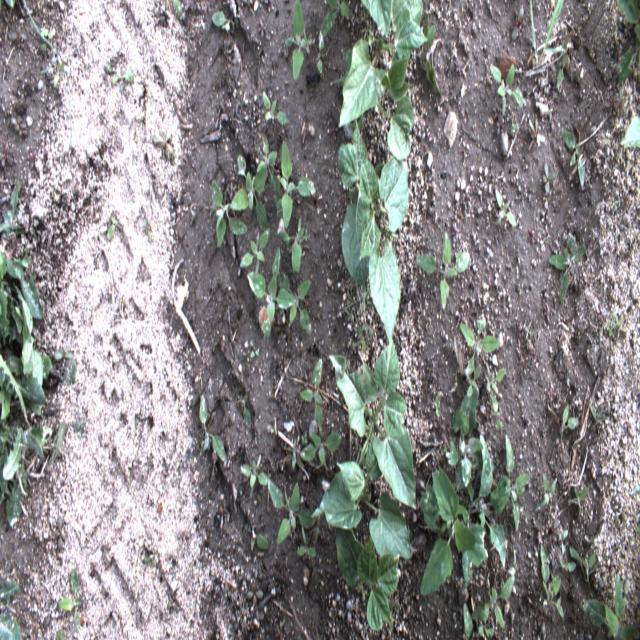crop: (316, 334, 418, 561), (334, 0, 442, 159), (339, 118, 414, 340), (418, 471, 474, 602), (329, 539, 398, 633)
weed: (0, 248, 65, 527), (446, 430, 509, 582), (244, 247, 314, 340), (3, 0, 67, 92), (256, 136, 314, 233), (212, 152, 268, 252), (415, 226, 471, 322), (462, 543, 516, 637), (267, 476, 320, 568), (522, 0, 575, 89), (578, 566, 636, 638), (492, 430, 530, 538), (546, 228, 588, 305), (555, 521, 601, 591), (196, 380, 229, 468), (342, 280, 382, 352), (315, 3, 352, 78), (283, 2, 316, 84), (484, 58, 527, 120), (451, 356, 480, 436), (458, 311, 506, 359), (302, 426, 344, 480), (540, 532, 565, 621), (278, 212, 311, 276), (545, 404, 580, 464), (535, 462, 561, 541), (613, 0, 638, 81), (58, 565, 86, 636), (298, 357, 326, 424), (0, 173, 27, 240), (560, 124, 587, 189), (237, 450, 270, 502), (105, 52, 136, 102), (0, 579, 25, 638), (260, 82, 290, 130), (239, 230, 272, 271), (494, 179, 518, 233), (600, 84, 632, 122), (564, 474, 592, 516), (205, 7, 244, 37), (134, 530, 160, 575), (484, 362, 505, 415), (151, 124, 179, 162), (512, 315, 533, 364), (55, 341, 75, 392), (607, 300, 626, 351), (537, 152, 556, 202), (524, 113, 547, 154), (507, 1, 527, 48), (213, 97, 239, 130), (425, 393, 444, 438), (584, 400, 608, 433), (619, 110, 638, 151), (244, 523, 269, 554), (48, 513, 68, 550), (140, 206, 158, 245), (8, 107, 30, 138), (239, 384, 253, 431), (105, 208, 122, 246), (245, 580, 268, 608), (1, 136, 19, 170), (283, 434, 300, 468), (148, 2, 170, 28), (8, 19, 28, 44), (247, 337, 262, 366), (70, 418, 88, 441), (170, 2, 192, 20), (27, 145, 42, 171), (257, 16, 272, 41), (2, 52, 15, 80), (324, 99, 336, 129), (509, 115, 521, 138), (527, 223, 537, 248), (54, 623, 70, 638)
